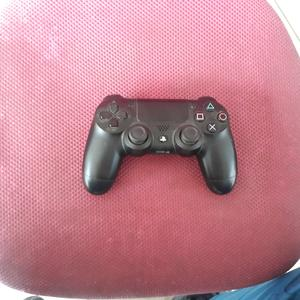controller: (83, 94, 237, 196)
